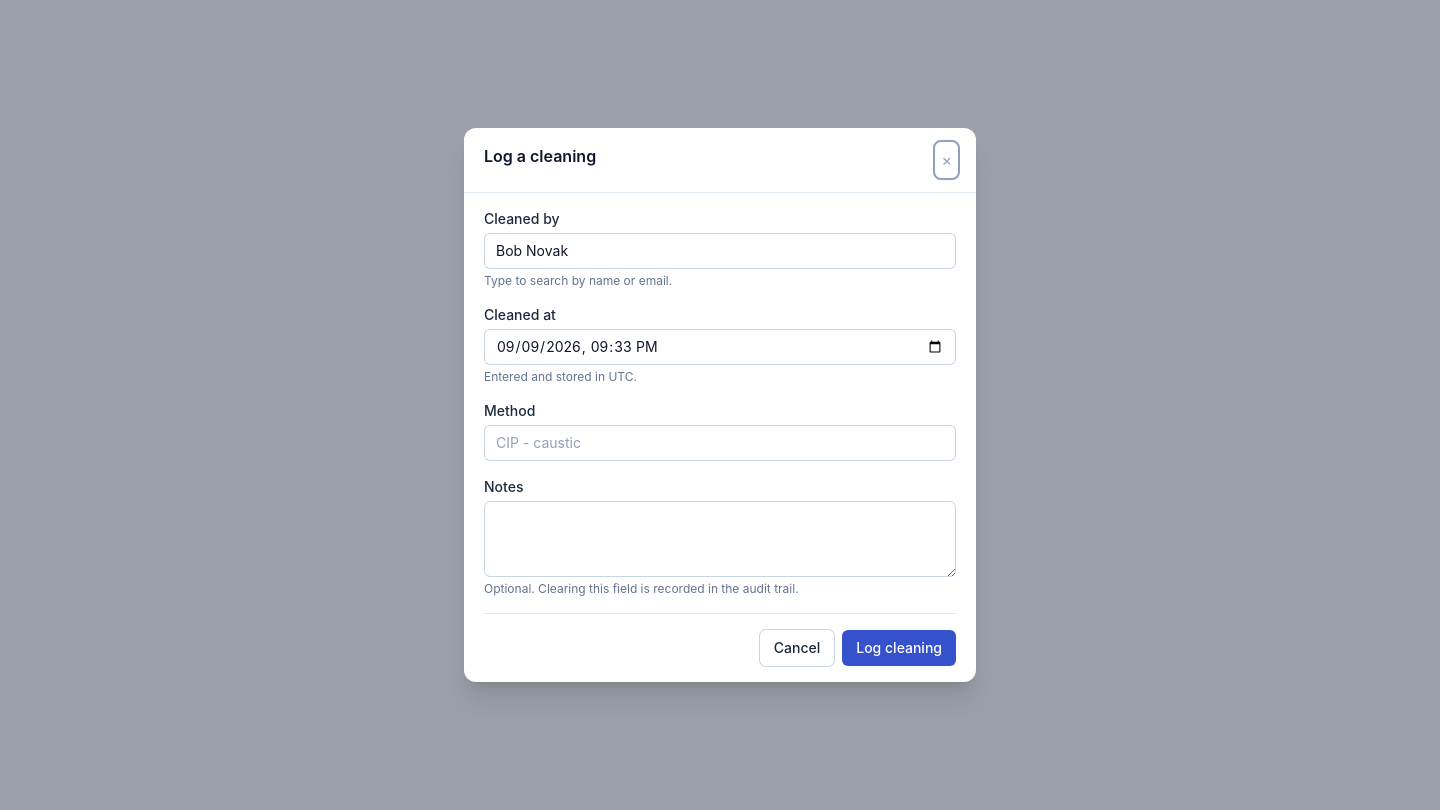
Test: RecordFormDialog › maps a server-side validation error back onto the offending field
Type "Rinse with tap water" into the field labelled "Method" at coordinates (720, 443), box x1=484 y1=425 x2=956 y2=461
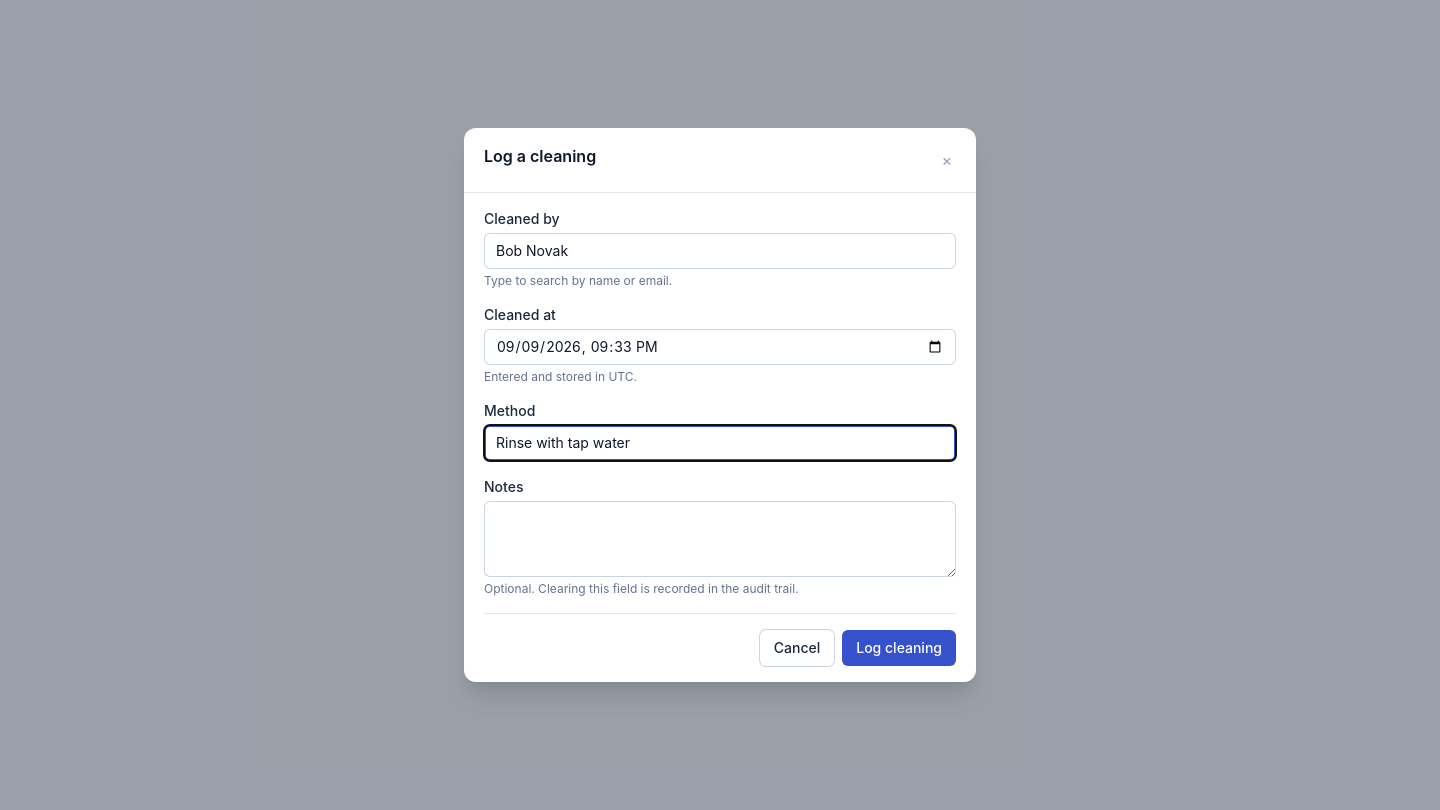
Click the button "Log cleaning" at coordinates (899, 648), box x1=842 y1=630 x2=956 y2=666
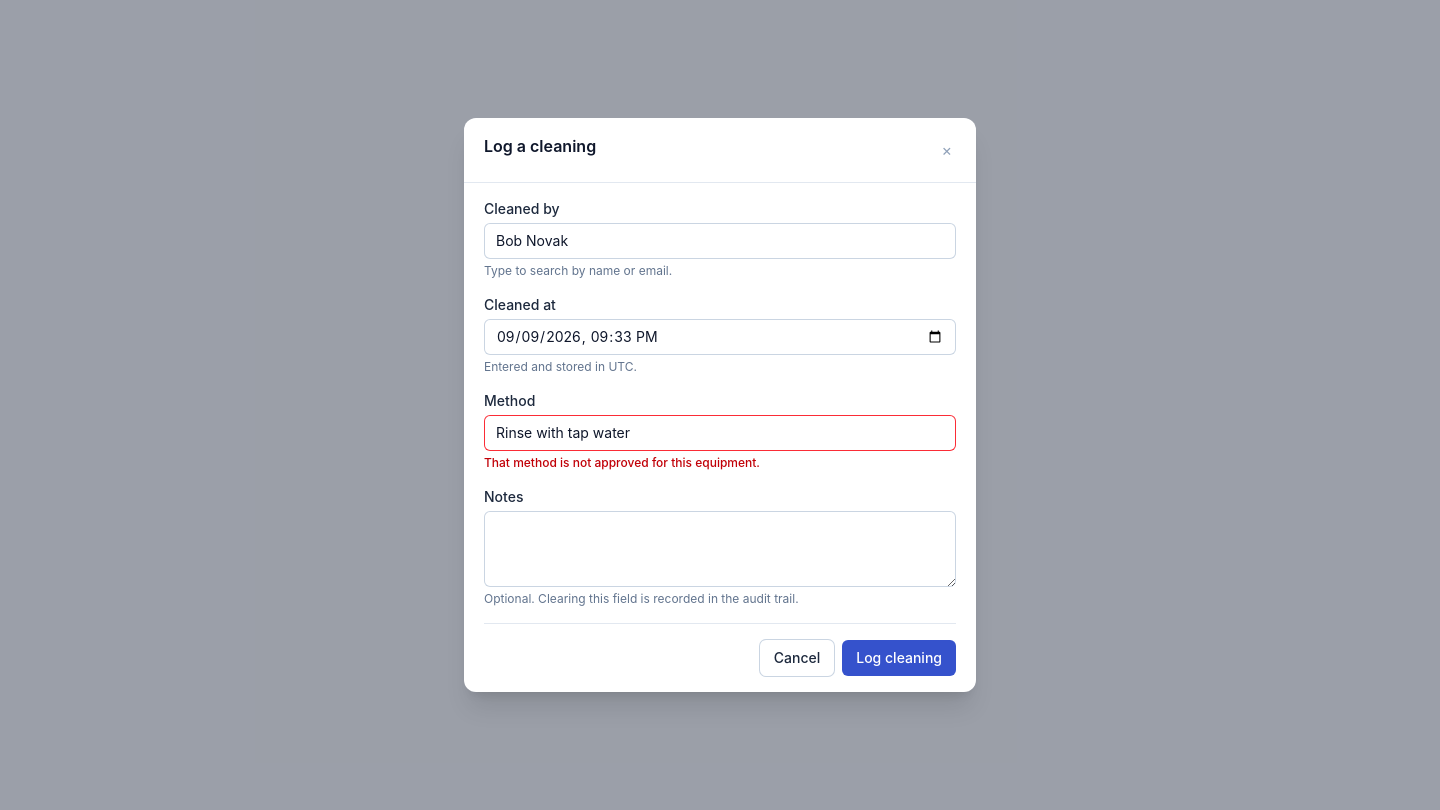
Expected: the text "That method is not approved for this equipment." is shown, x1=484 y1=455 x2=760 y2=470
